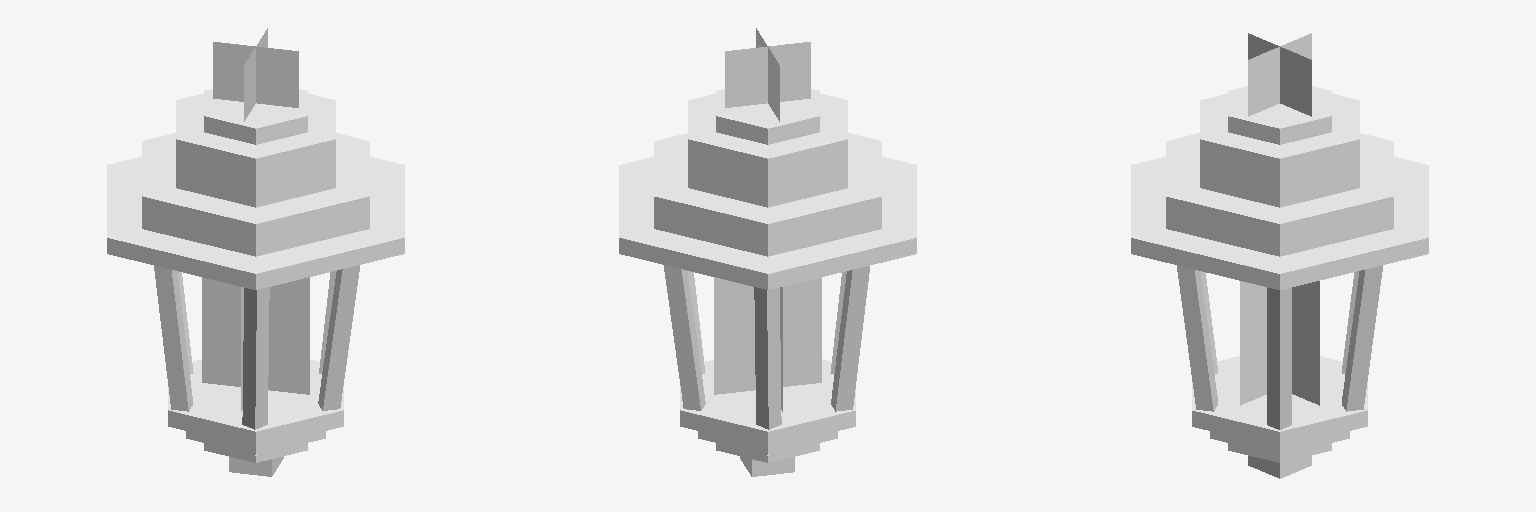
The model's file is mt_streetlamp_a_bottom.obj.
The picture shows the model from 3 angles: view 1: azimuth 30°, elevation 25°; view 2: azimuth 150°, elevation 25°; view 3: azimuth 270°, elevation 25°; orthographic projection.
Parts seen in each view (by area): view 1: cube.006, octagon.015, octagon.012, octagon.016, octagon.003, octagon.013, octagon.004, cube.008, octagon.000, cube.000, octagon.011, cube.001 (+10 smaller); view 2: cube.007, octagon.015, octagon.012, octagon.003, octagon.014, octagon.002, octagon.013, cube.009, octagon.000, octagon.011, cube.004, cube.005 (+12 smaller); view 3: octagon.012, octagon.016, octagon.004, octagon.014, octagon.013, octagon.002, octagon.011, octagon.015, cube.003, cube.001, cube.005, cube.007 (+13 smaller).
Boxes of the visible parts, <box> form: cube.006: <box>202,277,309,394</box>; octagon.015: <box>143,133,369,256</box>; octagon.012: <box>108,157,404,289</box>; octagon.016: <box>142,133,368,256</box>; octagon.003: <box>176,94,335,207</box>; octagon.013: <box>107,157,404,289</box>; octagon.004: <box>176,94,335,207</box>; cube.008: <box>213,42,298,107</box>; octagon.000: <box>190,359,343,447</box>; cube.000: <box>242,287,269,429</box>; octagon.011: <box>107,165,404,236</box>; cube.001: <box>318,265,359,410</box>; cube.007: <box>714,277,821,394</box>; octagon.015: <box>654,133,880,256</box>; octagon.012: <box>619,157,915,289</box>; octagon.003: <box>688,94,847,207</box>; octagon.014: <box>657,133,881,256</box>; octagon.002: <box>692,94,847,207</box>; octagon.013: <box>619,165,916,237</box>; cube.009: <box>725,42,810,107</box>; octagon.000: <box>680,359,833,447</box>; octagon.011: <box>622,157,916,289</box>; cube.004: <box>754,287,781,429</box>; cube.005: <box>664,265,705,410</box>; octagon.012: <box>1131,165,1428,237</box>; octagon.016: <box>1169,133,1393,256</box>; octagon.004: <box>1203,94,1359,207</box>; octagon.014: <box>1166,133,1390,256</box>; octagon.013: <box>1133,157,1428,289</box>; octagon.002: <box>1200,94,1355,207</box>; octagon.011: <box>1131,157,1425,289</box>; octagon.015: <box>1166,141,1393,196</box>; cube.003: <box>1267,287,1291,429</box>; cube.001: <box>1177,265,1217,411</box>; cube.005: <box>1342,265,1382,411</box>; cube.007: <box>1292,281,1319,405</box>.
Size of the model in its own units: 0.9561 by 1.28 by 0.8285.